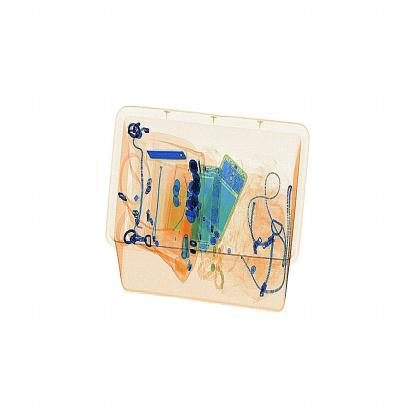pliers: (140, 137, 192, 168)
